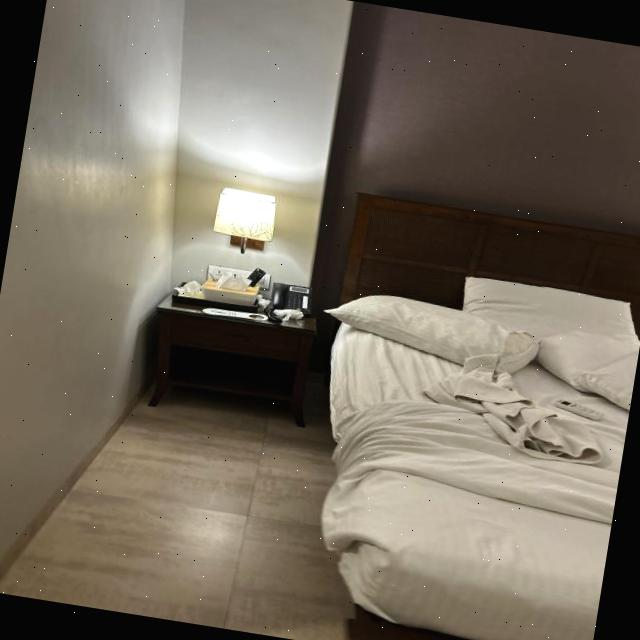Disorganized_pillow: (317, 276, 639, 413)
clean_floor: (0, 403, 325, 640)
lamp: (202, 182, 292, 262)
mess: (346, 366, 630, 568), (219, 272, 266, 304), (183, 276, 219, 310), (272, 306, 307, 328)
messy_bed: (335, 194, 640, 640)
messy_table: (136, 263, 325, 432)
